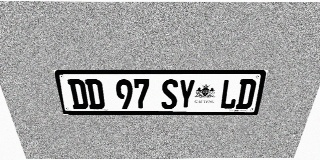7: (133, 79, 150, 109)
9: (115, 79, 134, 109)
D: (67, 79, 89, 109), (235, 79, 257, 109), (85, 79, 105, 109)
L: (219, 79, 240, 109)
S: (161, 79, 178, 109)
Y: (178, 79, 196, 109)
